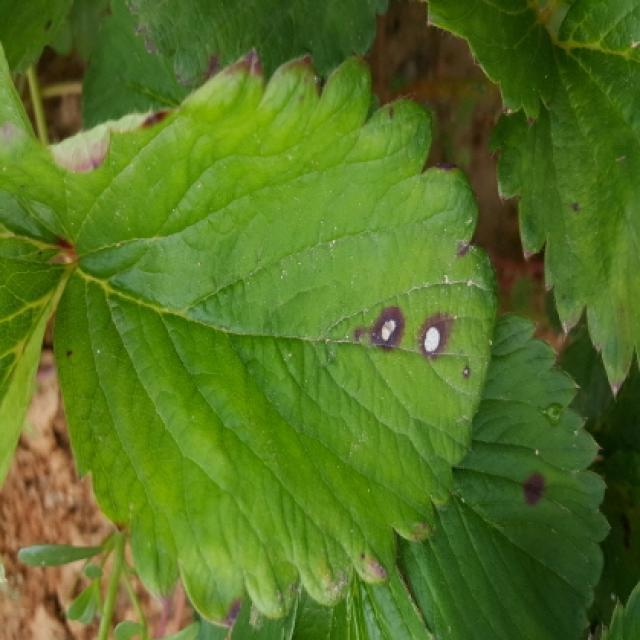Leaf Spot: (54, 45, 498, 632), (398, 314, 613, 638), (489, 0, 638, 402), (0, 107, 180, 244)
